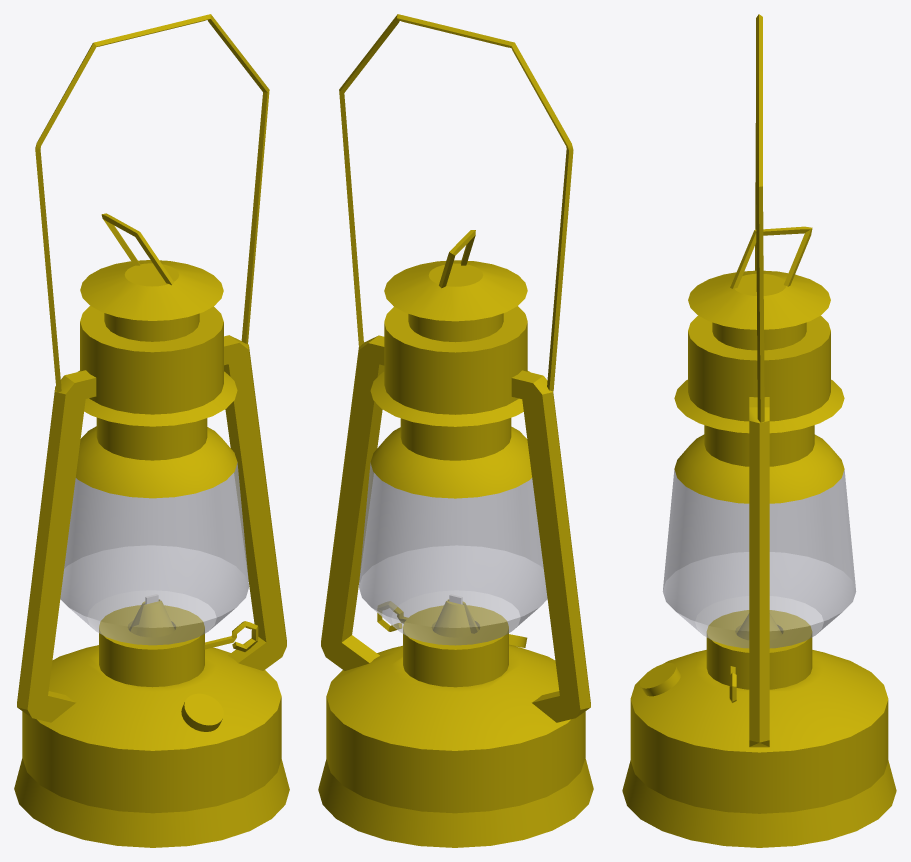
Rendered from sweethome3d-contributions-oil-lamp-477.glb.
3 views of the same model, side by side, from view 1: azimuth 30°, elevation 25°; view 2: azimuth 150°, elevation 25°; view 3: azimuth 270°, elevation 25° (orthographic).
Visible parts, largest first — view 1: 5_5_5, 12_12_12, 7_7_7, 15_15_15, 11_11_11, 14_14_14, 10_10_10, 13_13_13, 3_3_3, 6_6_6, 1_1_1, 9_9_9 (+2 smaller); view 2: 5_5_5, 12_12_12, 7_7_7, 15_15_15, 11_11_11, 14_14_14, 10_10_10, 13_13_13, 3_3_3, 6_6_6, 9_9_9, 4_4_4; view 3: 5_5_5, 12_12_12, 7_7_7, 11_11_11, 14_14_14, 10_10_10, 13_13_13, 3_3_3, 6_6_6, 4_4_4, 1_1_1.
Part boxes in pixels (x1,y1,x2,y2): 5_5_5: [14, 645, 289, 847]; 12_12_12: [60, 462, 249, 645]; 7_7_7: [78, 306, 237, 426]; 15_15_15: [17, 370, 96, 722]; 11_11_11: [75, 417, 237, 498]; 14_14_14: [224, 335, 286, 670]; 10_10_10: [80, 260, 223, 320]; 13_13_13: [99, 605, 204, 687]; 3_3_3: [35, 14, 269, 392]; 6_6_6: [104, 313, 199, 341]; 1_1_1: [181, 693, 223, 731]; 9_9_9: [128, 599, 175, 637]; 5_5_5: [318, 645, 593, 847]; 12_12_12: [359, 462, 547, 645]; 7_7_7: [370, 306, 529, 426]; 15_15_15: [511, 370, 590, 722]; 11_11_11: [370, 418, 531, 498]; 14_14_14: [321, 335, 384, 670]; 10_10_10: [384, 260, 527, 321]; 13_13_13: [403, 605, 508, 687]; 3_3_3: [339, 14, 573, 390]; 6_6_6: [408, 313, 503, 342]; 9_9_9: [432, 599, 479, 637]; 4_4_4: [439, 230, 475, 288]; 5_5_5: [622, 650, 896, 847]; 12_12_12: [662, 469, 856, 648]; 7_7_7: [674, 315, 844, 433]; 11_11_11: [674, 425, 844, 503]; 14_14_14: [749, 397, 769, 747]; 10_10_10: [688, 270, 830, 329]; 13_13_13: [706, 610, 812, 689]; 3_3_3: [755, 14, 764, 422]; 6_6_6: [712, 322, 806, 350]; 4_4_4: [730, 226, 812, 288]; 1_1_1: [640, 663, 680, 696].
Bounding box in the file's own units: 12.3 × 33.12 × 11.
